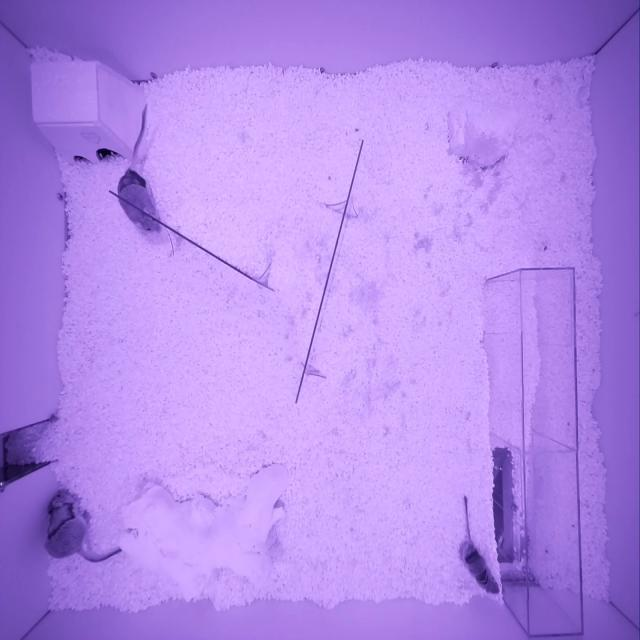adult_back: (118, 169, 158, 233)
adult_front: (44, 490, 87, 559)
pup_h_stripe: (463, 544, 500, 594)
